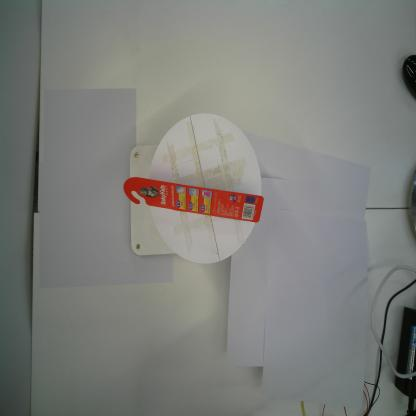Personal Hygiene: (123, 176, 264, 223)
